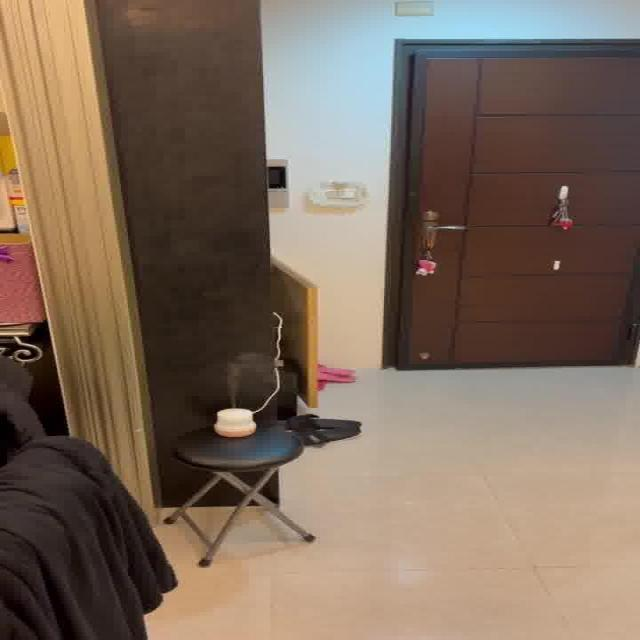fire: (222, 348, 268, 394)
